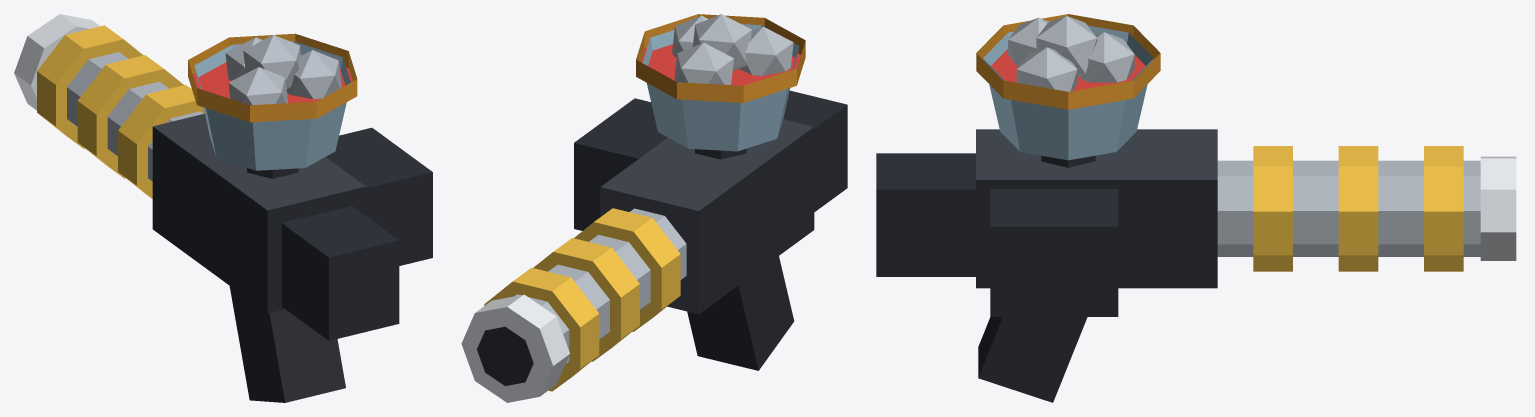
File: G_Miknato_4.fbx
3 views of the same model, side by side, from view 1: azimuth 30°, elevation 25°; view 2: azimuth 150°, elevation 25°; view 3: azimuth 270°, elevation 25° (orthographic). The views are drawn at different scales.
Visible parts, largest first — view 1: G_Miknato_4; view 2: G_Miknato_4; view 3: G_Miknato_4.
Boxes of the visible parts, x1,y1,x2,y2 form: G_Miknato_4: (14,14,432,402); G_Miknato_4: (461,14,847,402); G_Miknato_4: (876,14,1516,402).
Size of the model in its own units: 0.2462 by 0.4181 by 0.6568.
